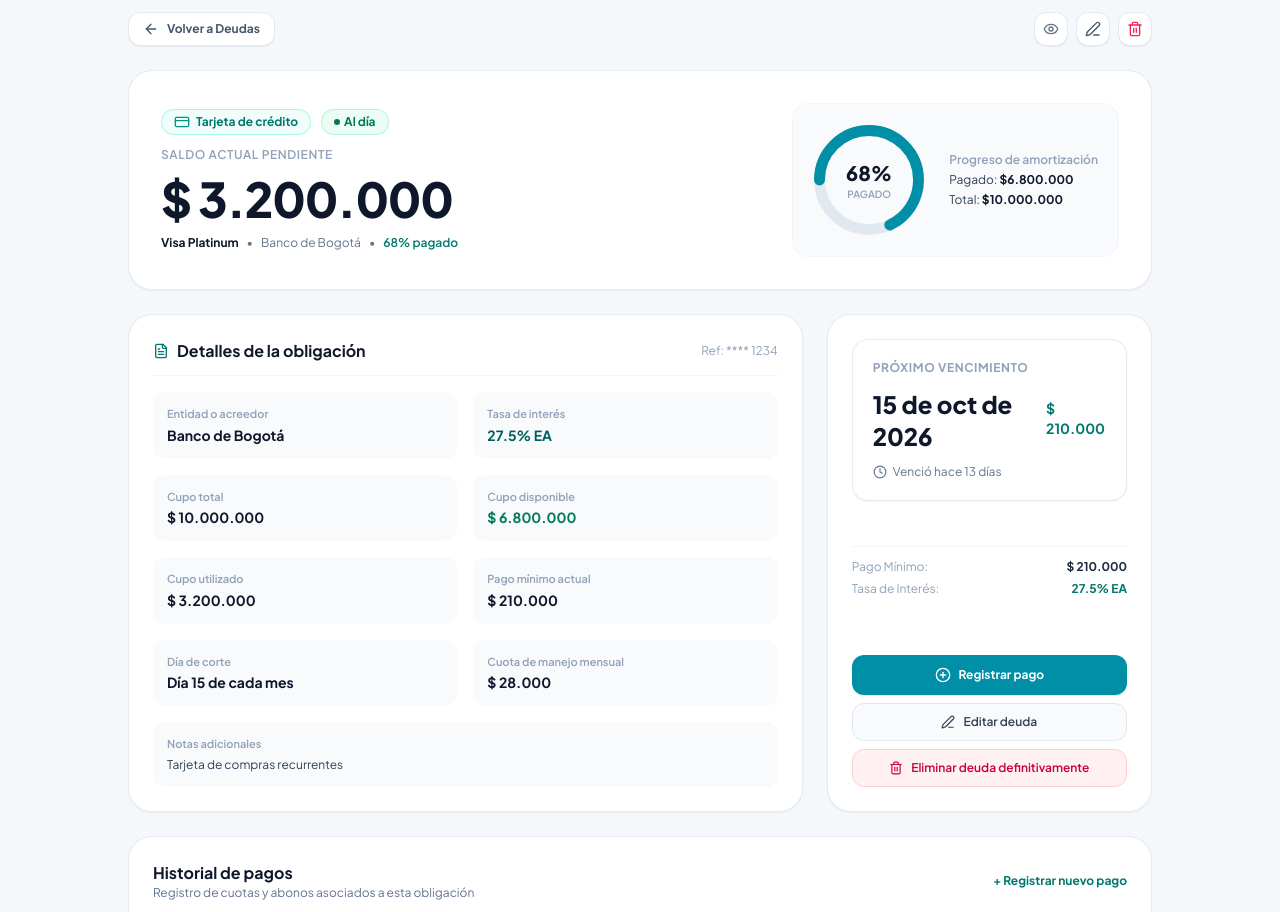
Test: EP-07 — Administración de obligaciones (HU-034, HU-035, HU-036) › HU-034: Consultar detalle de una deuda › Permite ocultar y mostrar el saldo mediante toggle
Expected: the text "$ 3.200.000" below "Saldo actual pendiente" is shown, 161,168 -> 453,229
Click the button named "Ocultar saldo" at (1051,29), box 1034,12 -> 1068,46
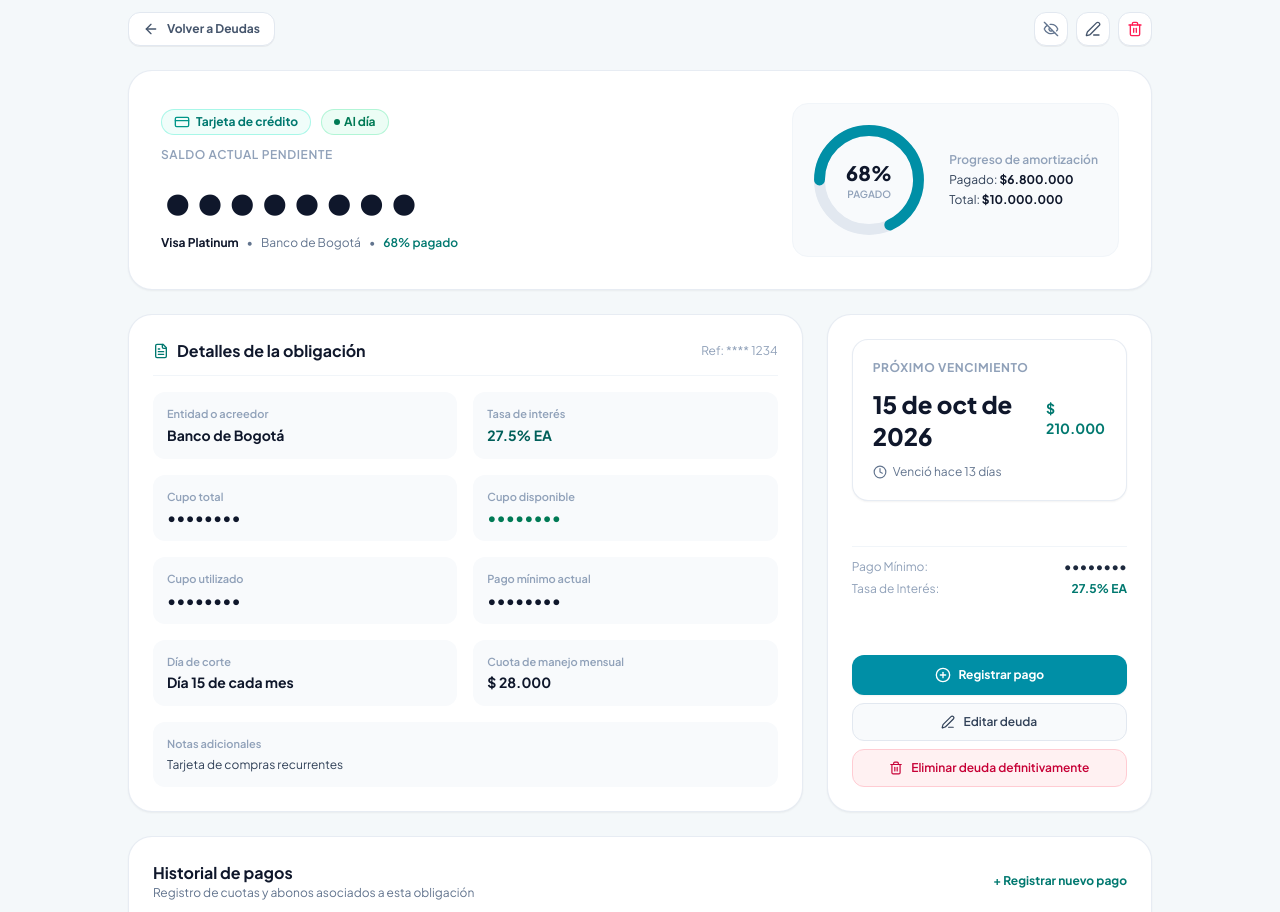
Expected: the text "••••••••" below "Saldo actual pendiente" is shown, 161,168 -> 419,229
Click the button named "Mostrar saldo" at (1051,29), box 1034,12 -> 1068,46
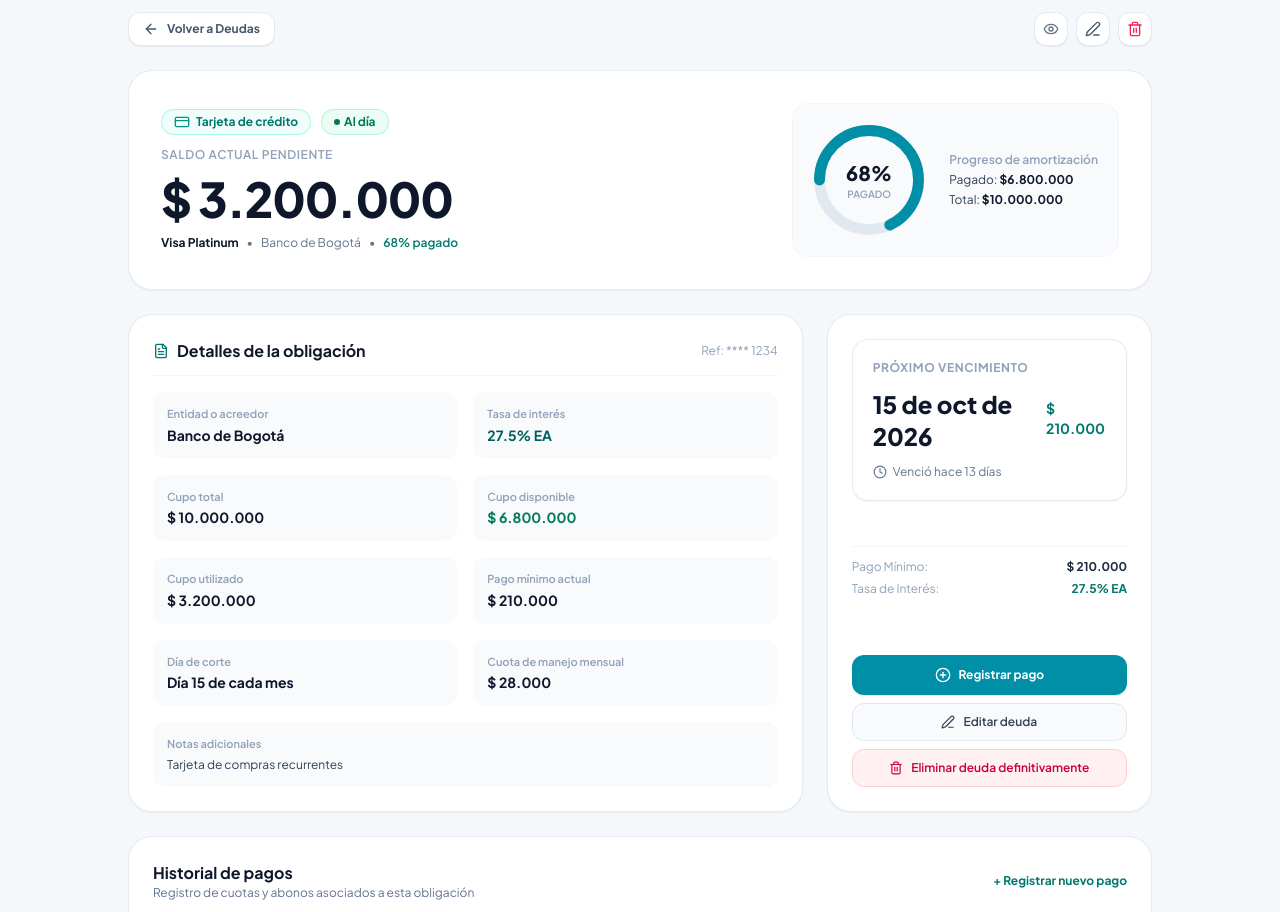
Expected: the text "$ 3.200.000" below "Saldo actual pendiente" is shown, 161,168 -> 453,229
